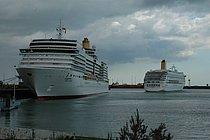Ship: (10, 16, 117, 101), (137, 57, 190, 98)
